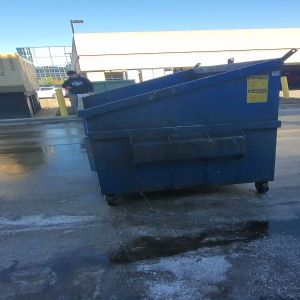Dumpster: (82, 60, 283, 208)
Person: (63, 70, 93, 93)
